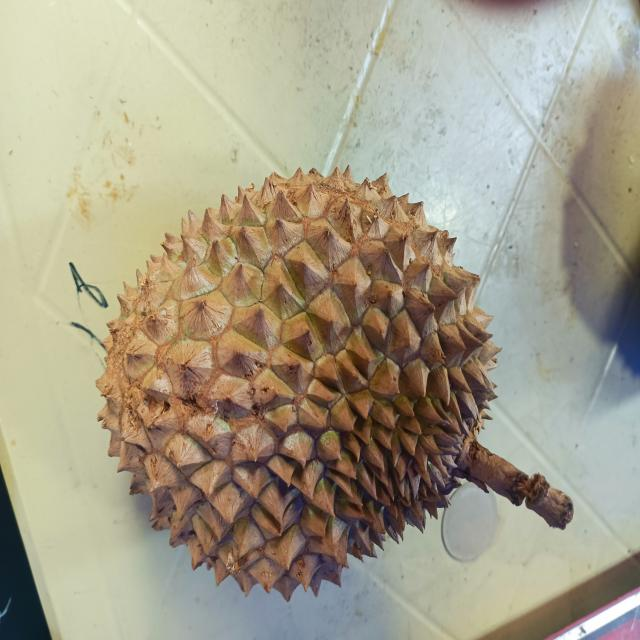mature: (84, 153, 588, 606)
